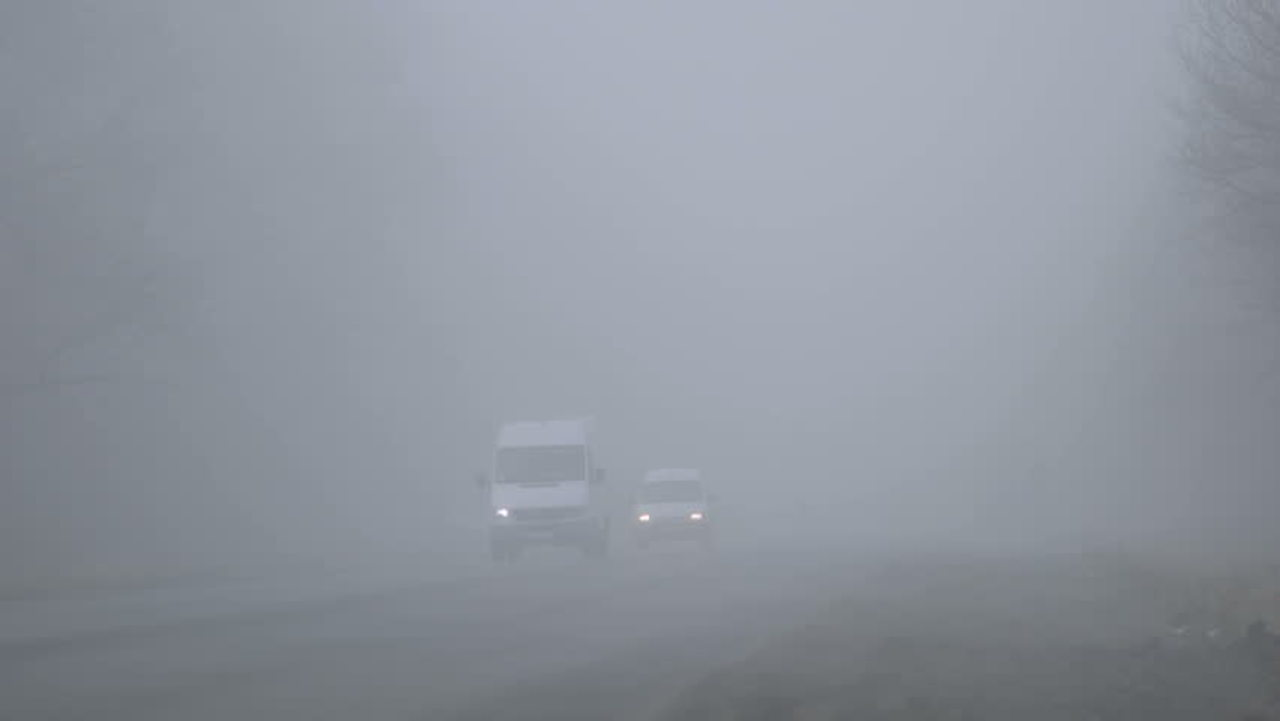car: (483, 418, 607, 559), (625, 469, 712, 555)
